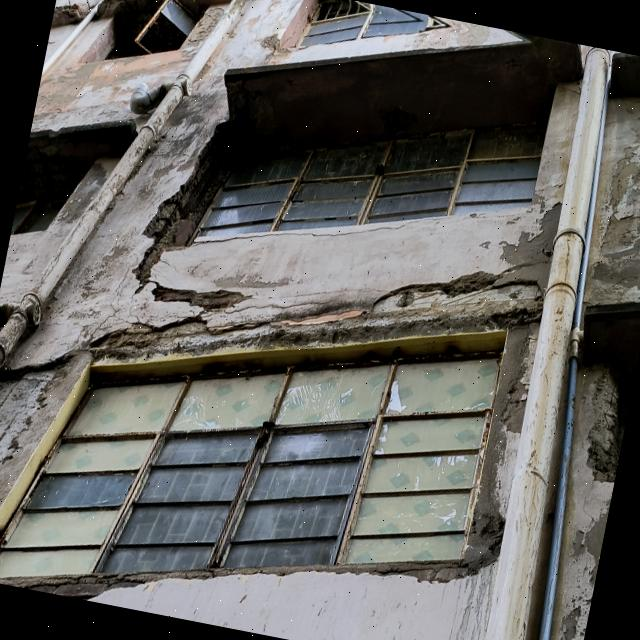Scaling: (83, 130, 640, 640), (0, 348, 81, 496)
Spalling: (121, 64, 288, 315), (27, 123, 142, 199), (98, 0, 174, 42), (53, 0, 89, 24)
exposed brickwork: (0, 556, 463, 600)
